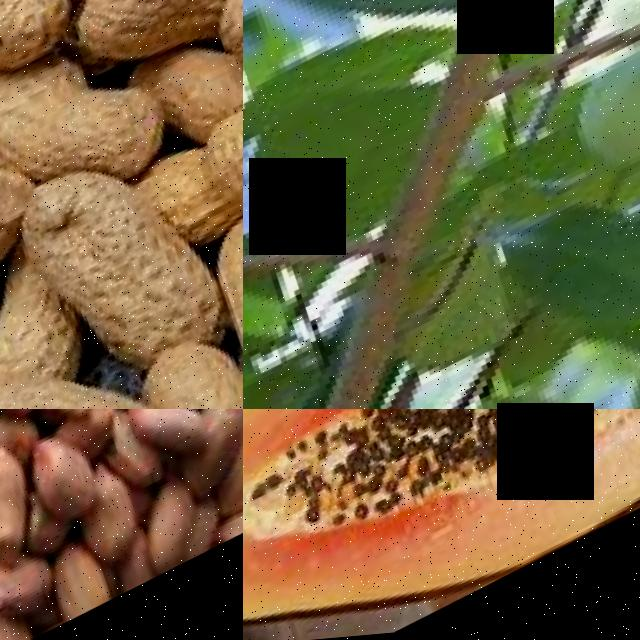pawpaw: (243, 409, 640, 640), (243, 409, 640, 463)
peanuts: (13, 130, 242, 402), (0, 31, 115, 192), (51, 0, 243, 93), (152, 83, 243, 256), (25, 425, 118, 536), (0, 362, 219, 409), (75, 465, 165, 578), (0, 445, 72, 582), (0, 0, 84, 107), (145, 326, 243, 409), (0, 546, 79, 640), (126, 409, 227, 482), (0, 151, 36, 340)
